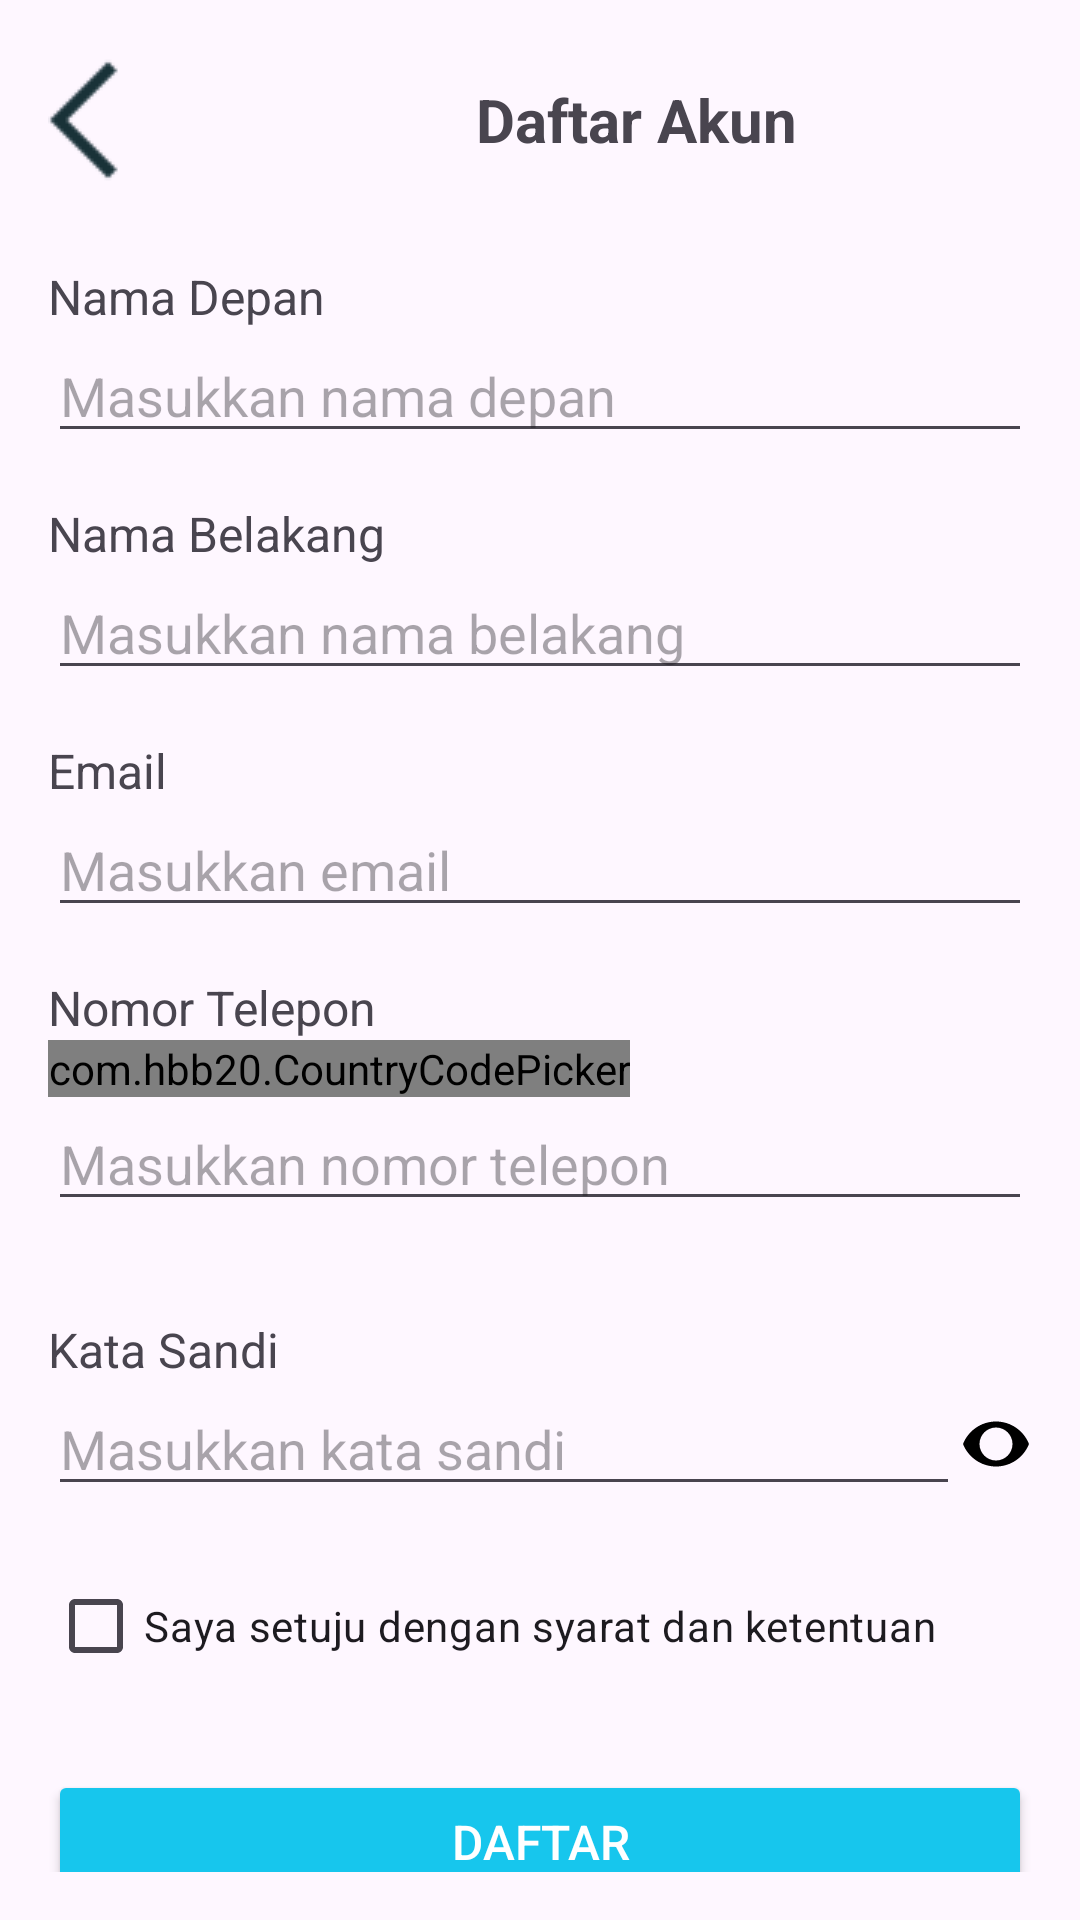

Screen size 1080 × 1920. Icon name, then its box in pixels as [x1,y1,x2,y2]:
Back: [50,62,118,178]
Show Password: [963,1421,1029,1467]
